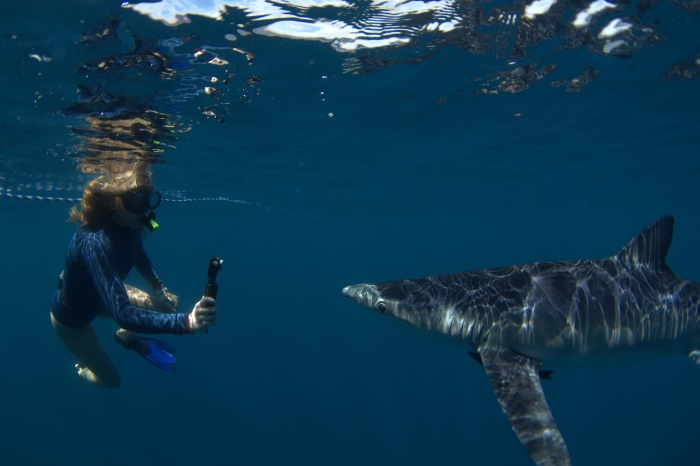Azul: (301, 198, 697, 466)
